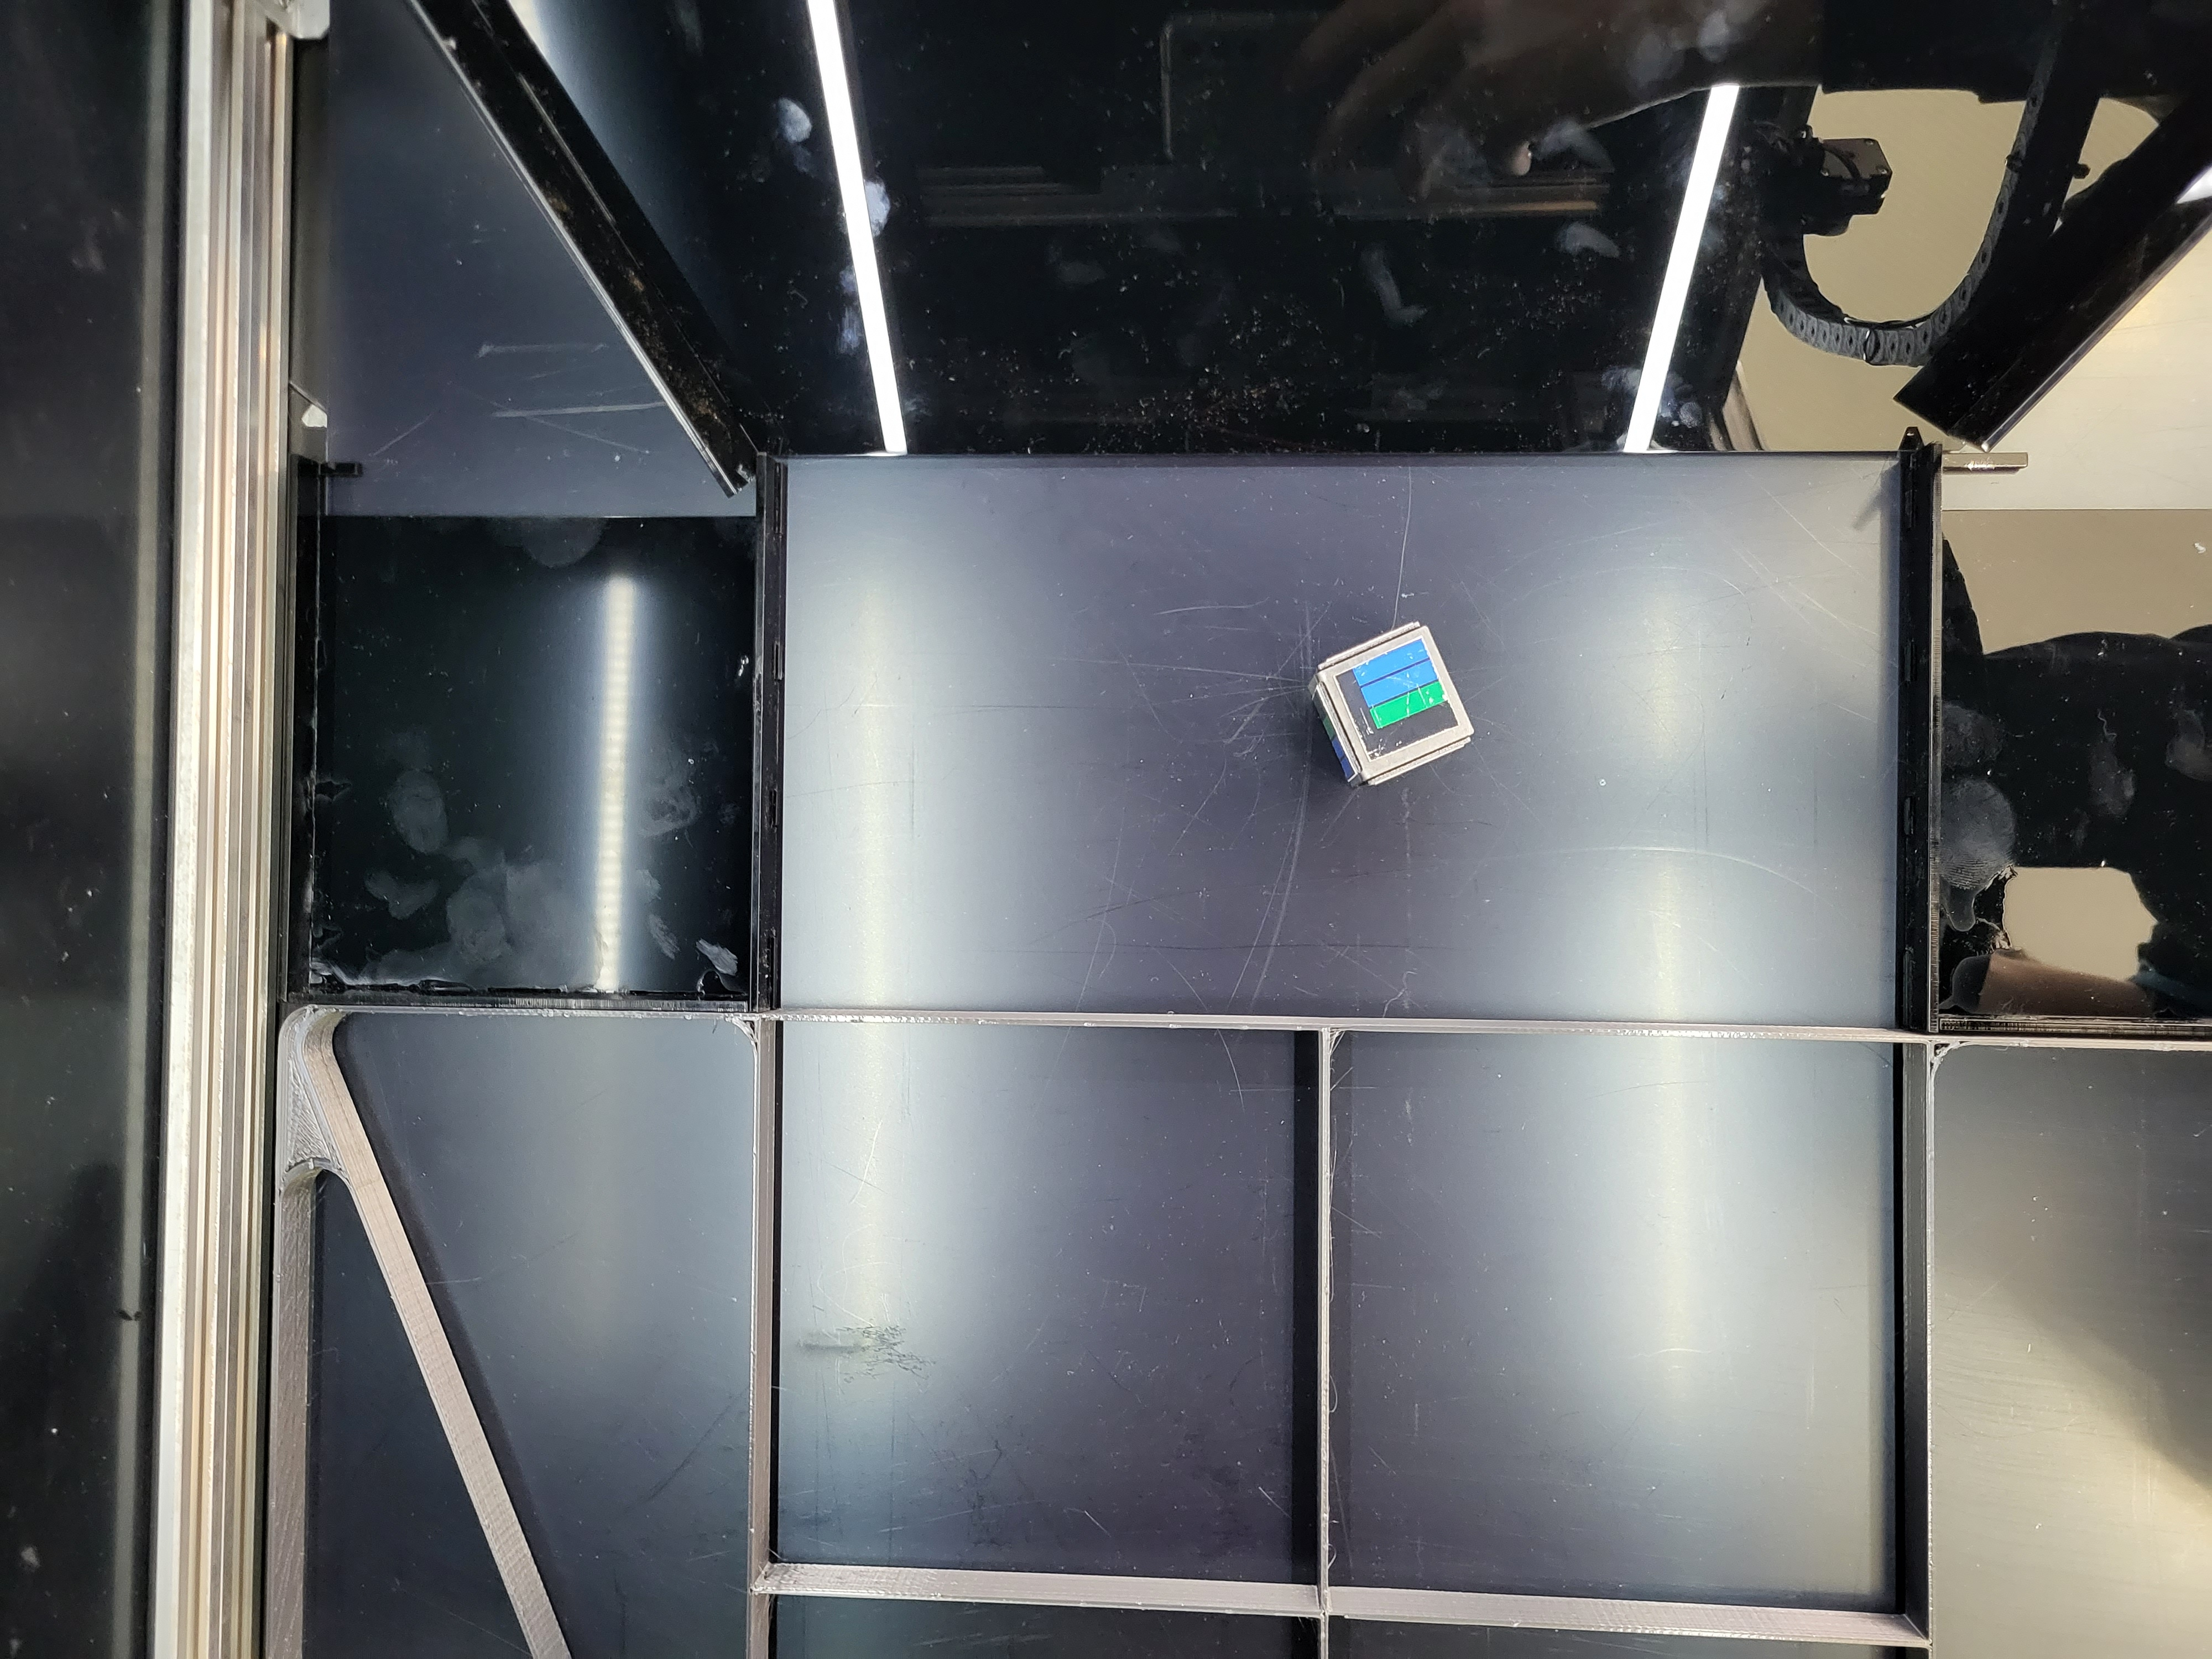Cube: (1298, 605, 1482, 800)
